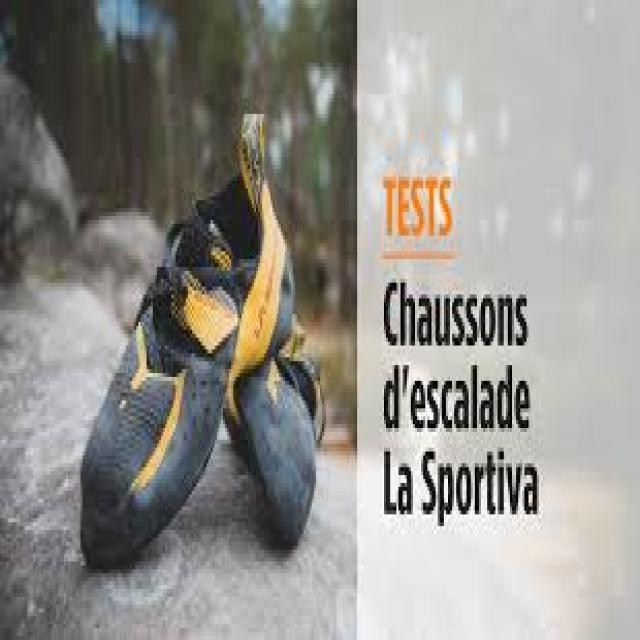climbing-shoes: (80, 138, 292, 568), (234, 281, 324, 551)
